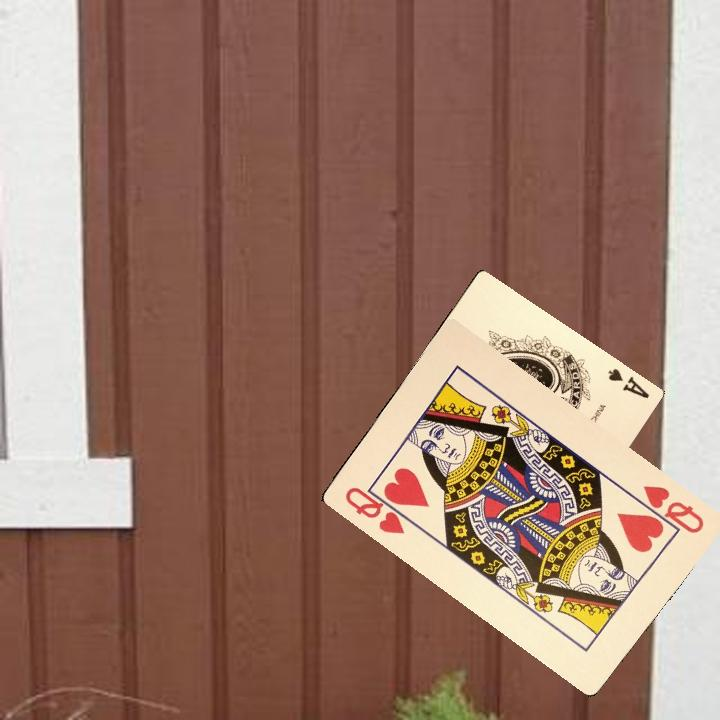As: (604, 364, 652, 401)
Qh: (629, 481, 707, 536), (340, 482, 414, 537)
